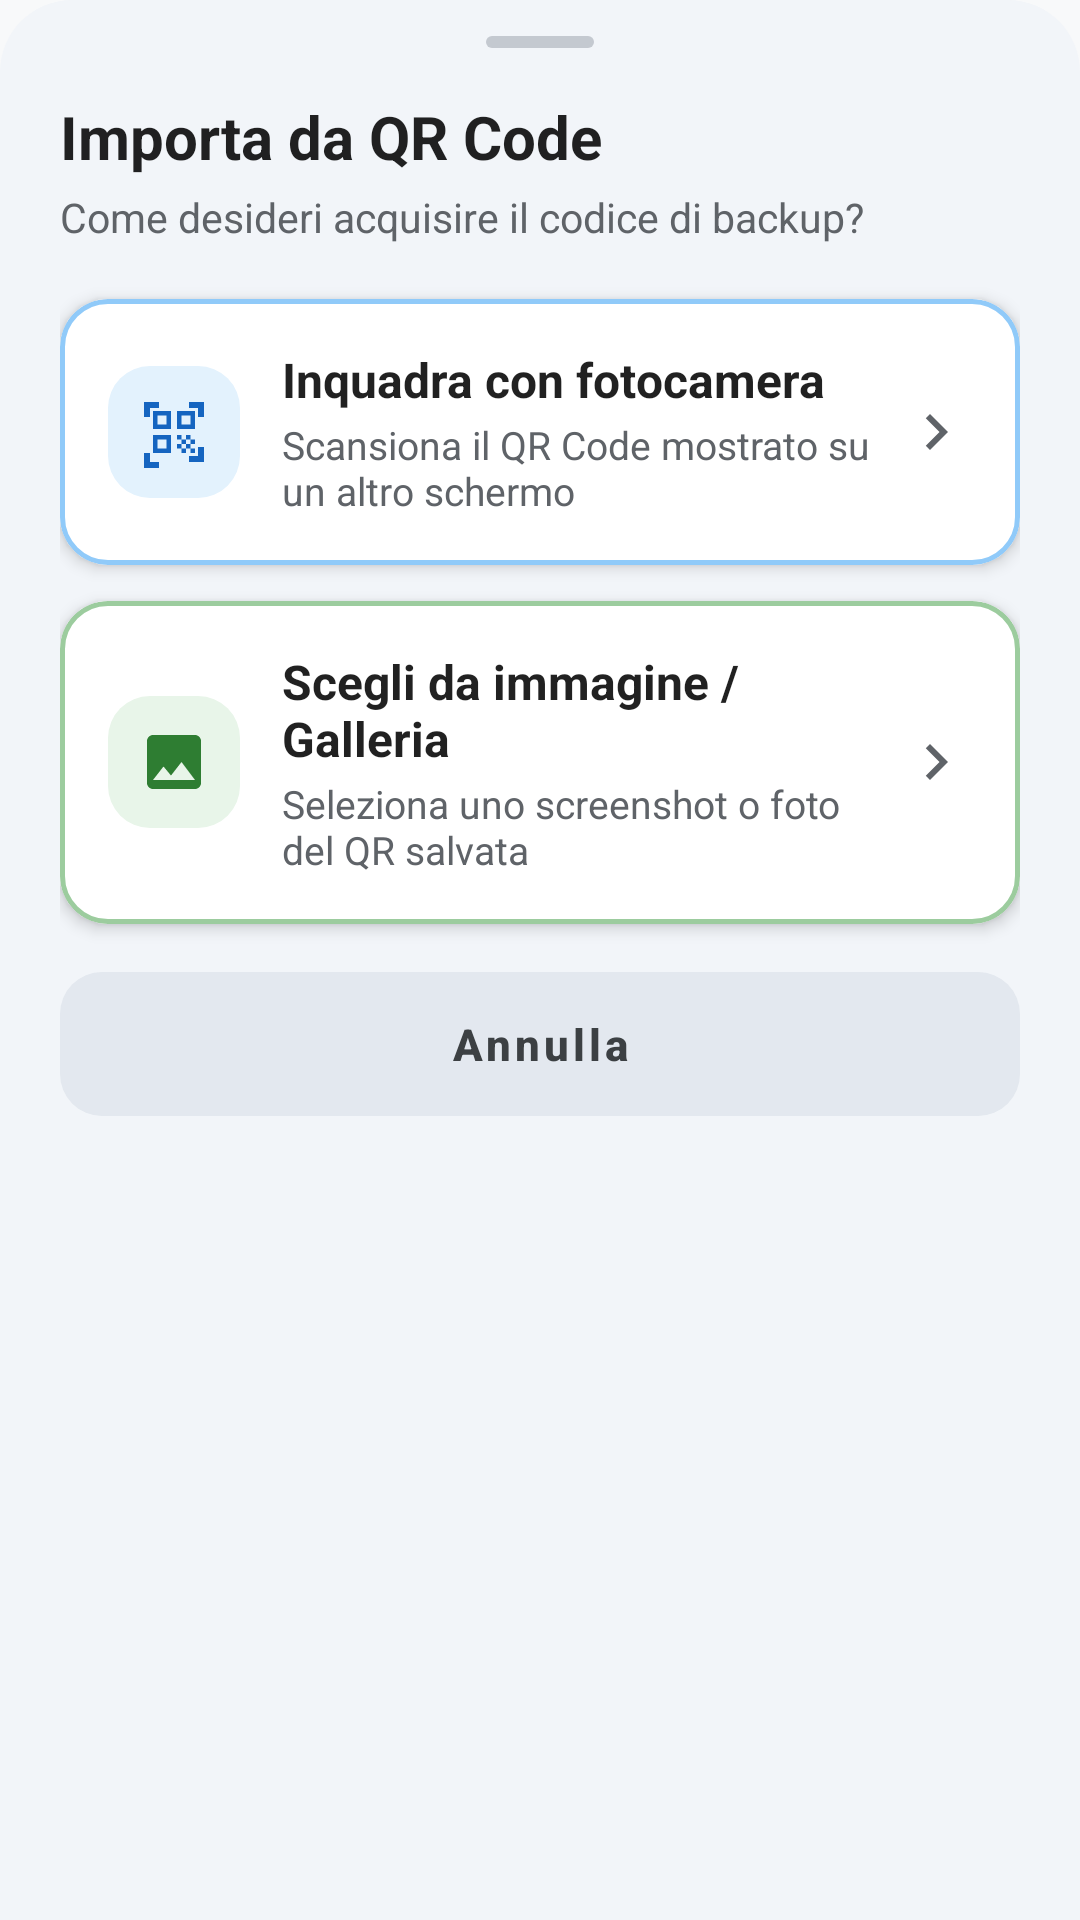

Icons on this 1080 × 1920 Android screen, each with its box as [left=x1, top=y1, right=x2, bottom=y2]:
chevron right: [left=926, top=414, right=948, bottom=450], [left=926, top=744, right=948, bottom=780]
qr code scanner: [left=108, top=366, right=240, bottom=498]
